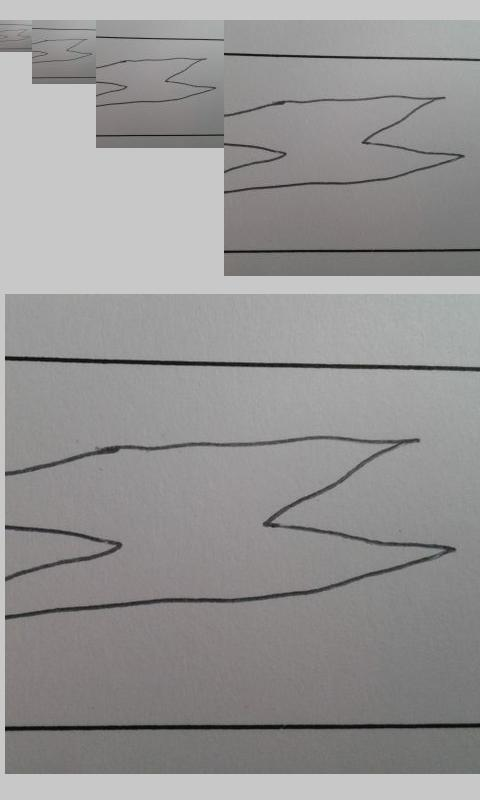edit_text: (9, 434, 452, 624), (226, 93, 464, 198), (98, 57, 216, 108), (33, 38, 91, 64), (1, 29, 30, 43)
